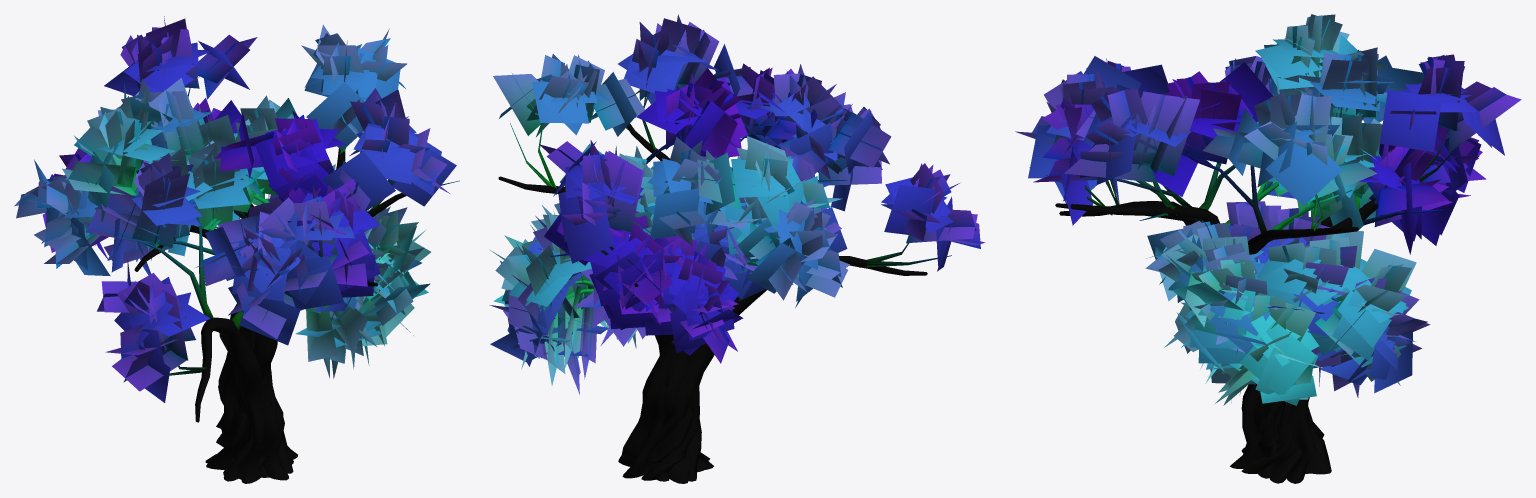
Rendered from Tree 1.fbx.
The picture shows the model from 3 angles, left to right: view 1: azimuth 30°, elevation 25°; view 2: azimuth 150°, elevation 25°; view 3: azimuth 270°, elevation 25°; orthographic projection. The views are drawn at different scales.
Visible parts, largest first — view 1: Tree_1, Tree_0; view 2: Tree_1, Tree_0; view 3: Tree_1, Tree_0.
Boxes of the visible parts, <box> form: Tree_1: <box>14,16,456,402</box>; Tree_0: <box>85,73,459,483</box>; Tree_1: <box>489,14,985,394</box>; Tree_0: <box>498,79,951,483</box>; Tree_1: <box>1015,14,1521,405</box>; Tree_0: <box>1029,73,1460,483</box>.
Size of the model in its own units: 485 by 462 by 508.
